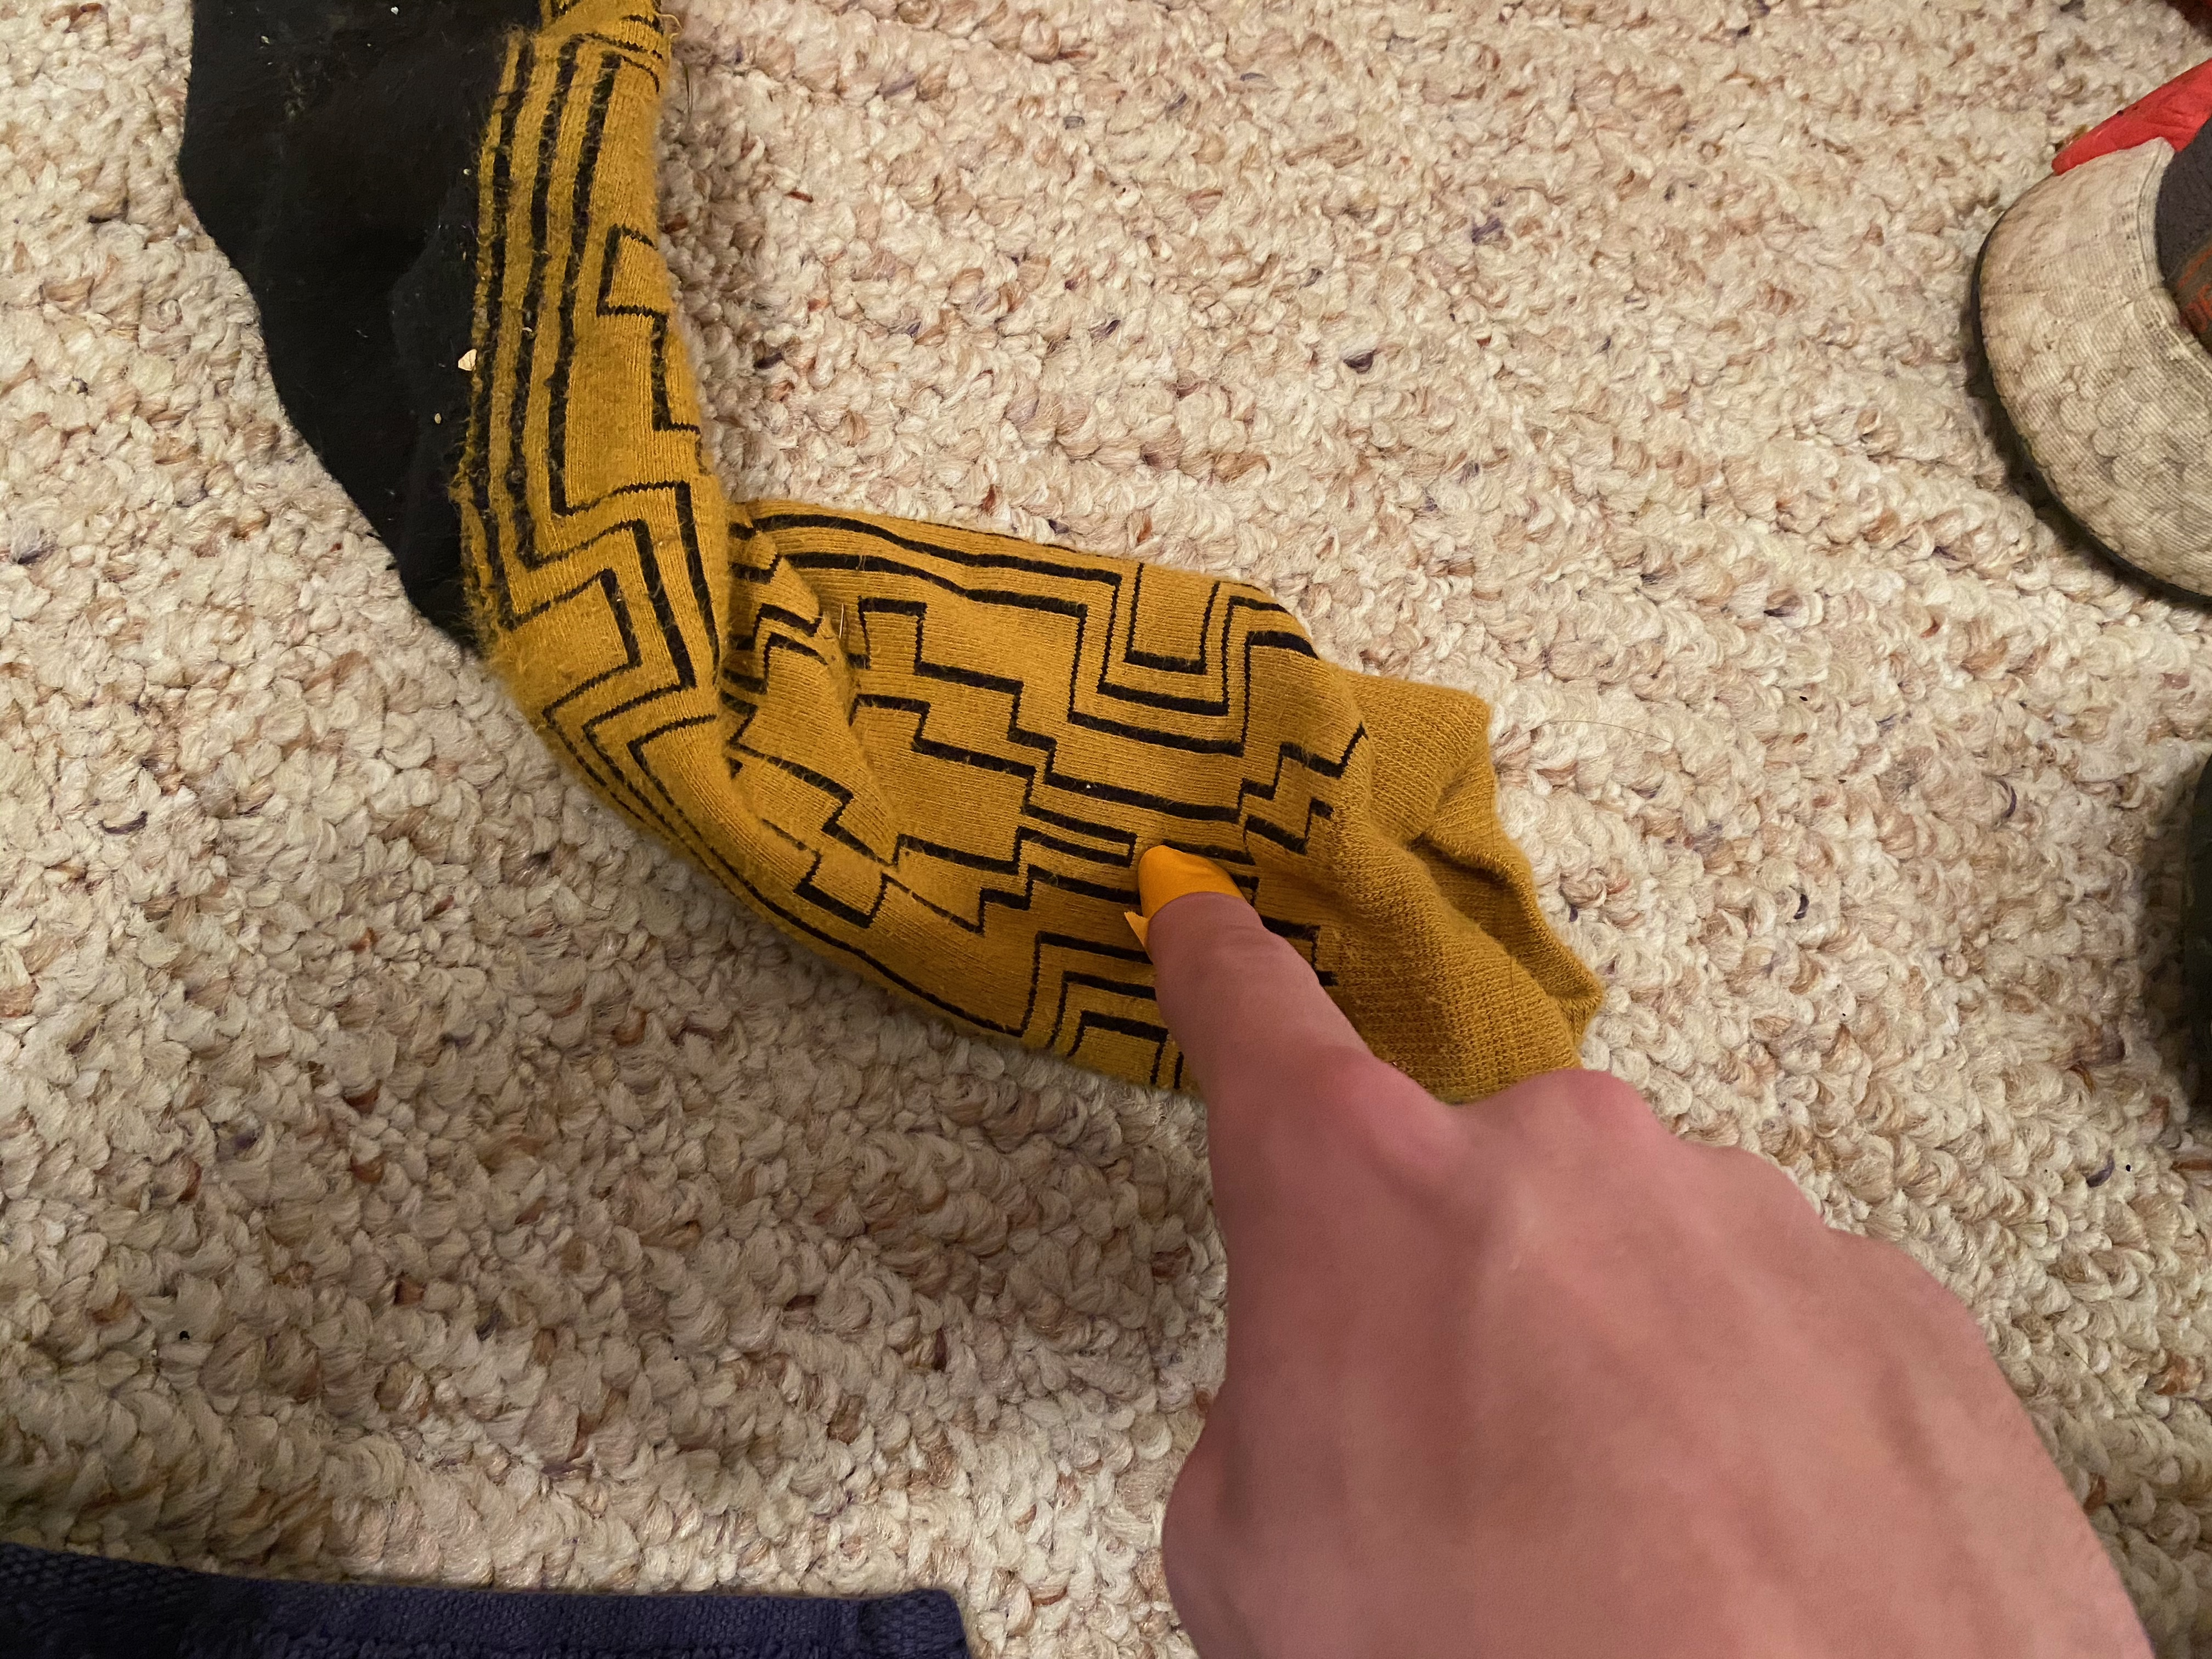fingertip: (1106, 831, 1291, 950)
